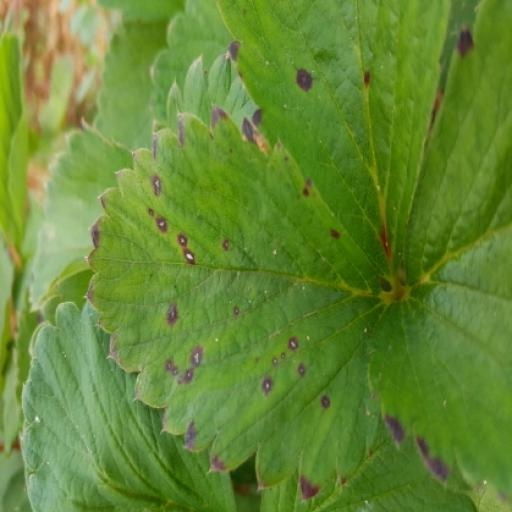Leaf Spot: (117, 101, 430, 503), (60, 0, 299, 293)
